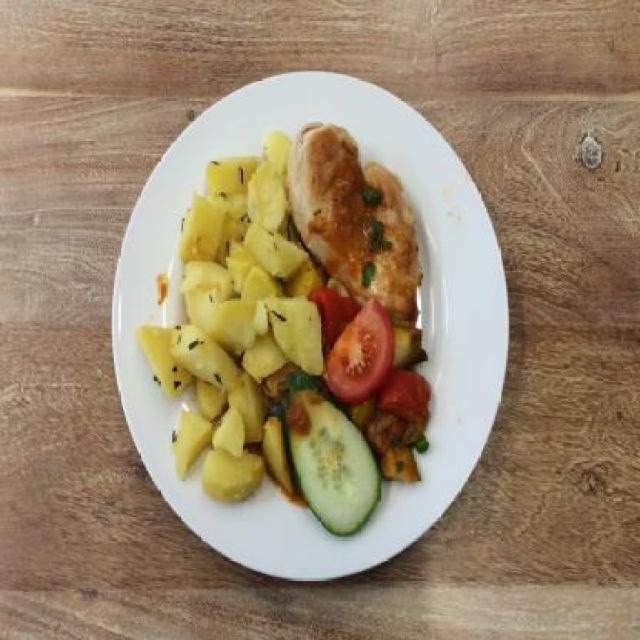Potato: (136, 129, 324, 506)
